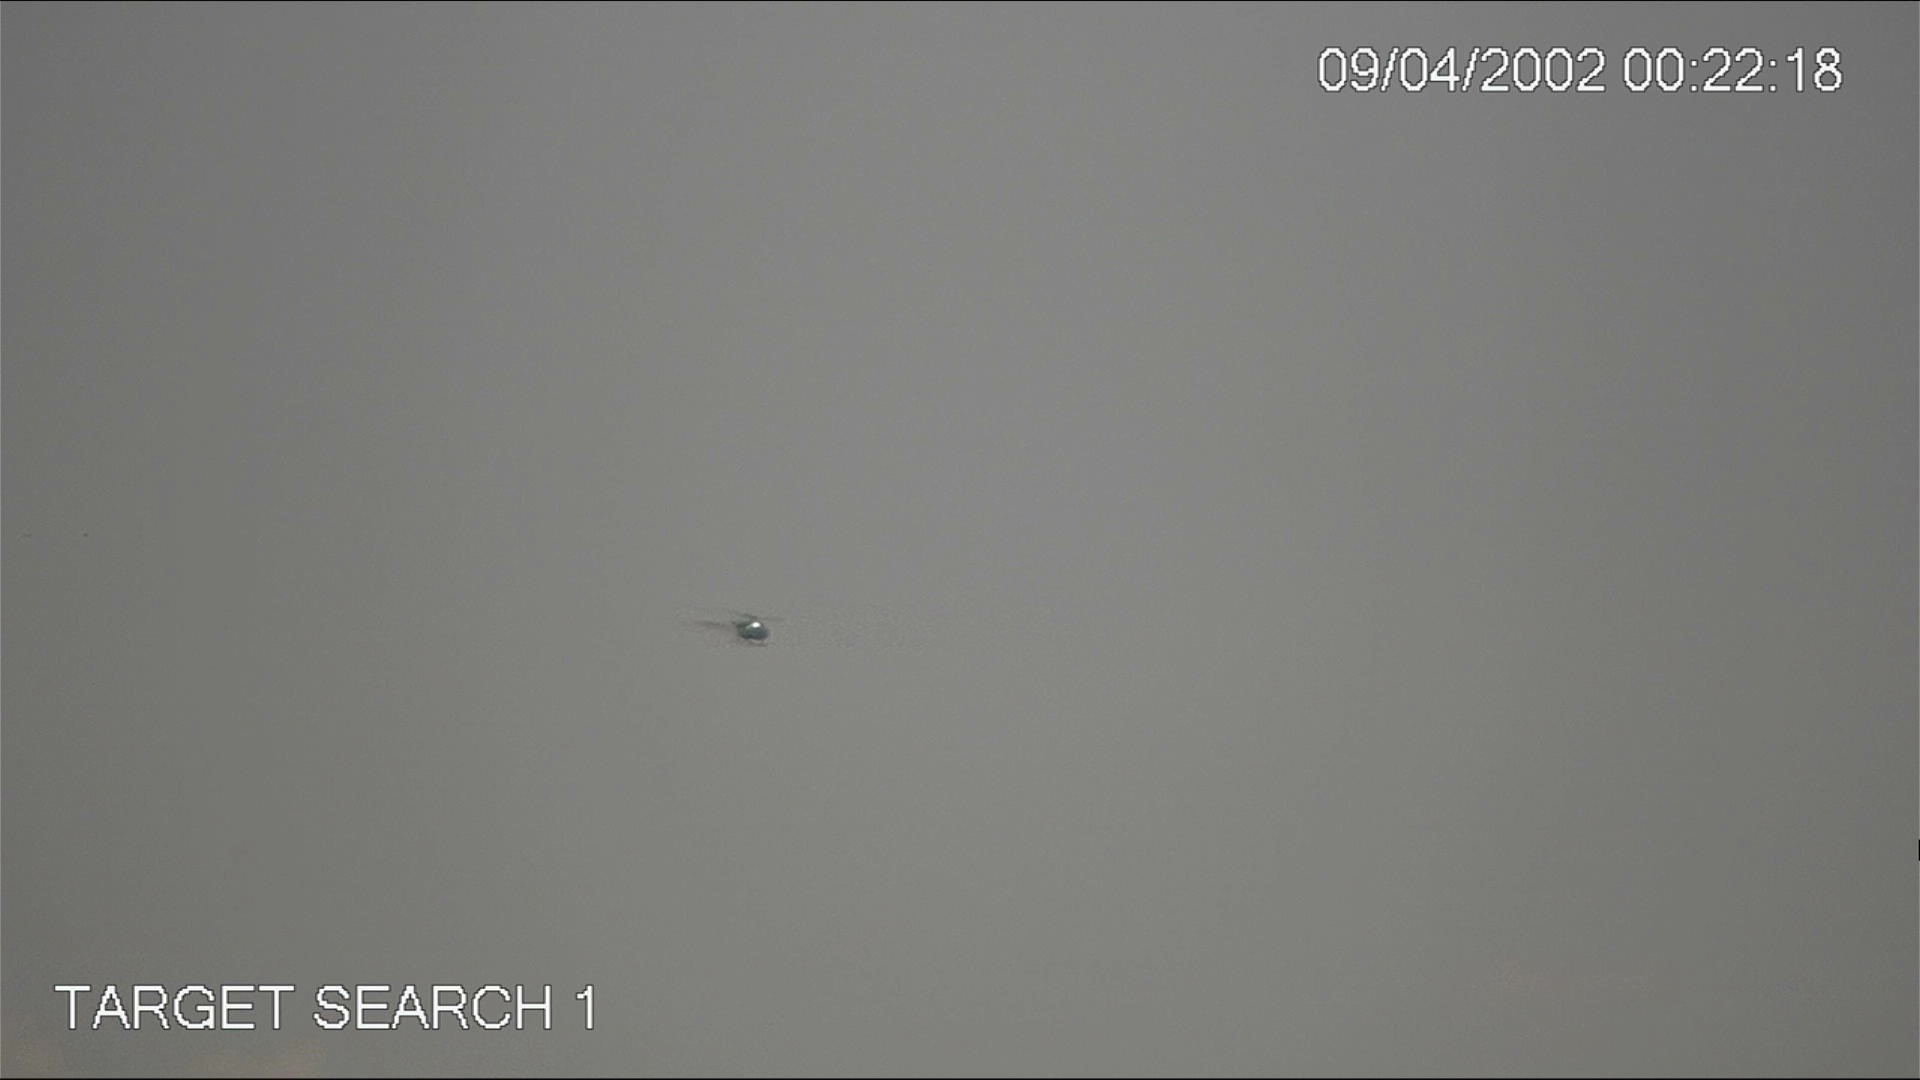SU_30: (702, 608, 781, 644)
